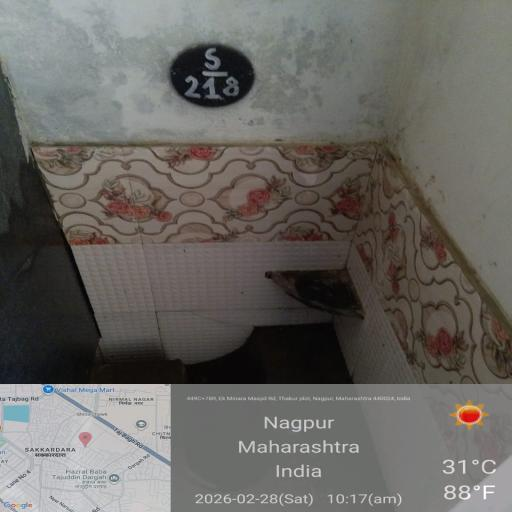clean_floor: (24, 166, 349, 314), (55, 320, 341, 380), (363, 291, 496, 372)
partial_dirty_floor: (0, 0, 499, 149), (364, 141, 512, 279)
